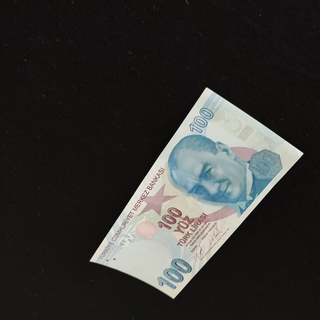100TLFront: (89, 86, 304, 300)
